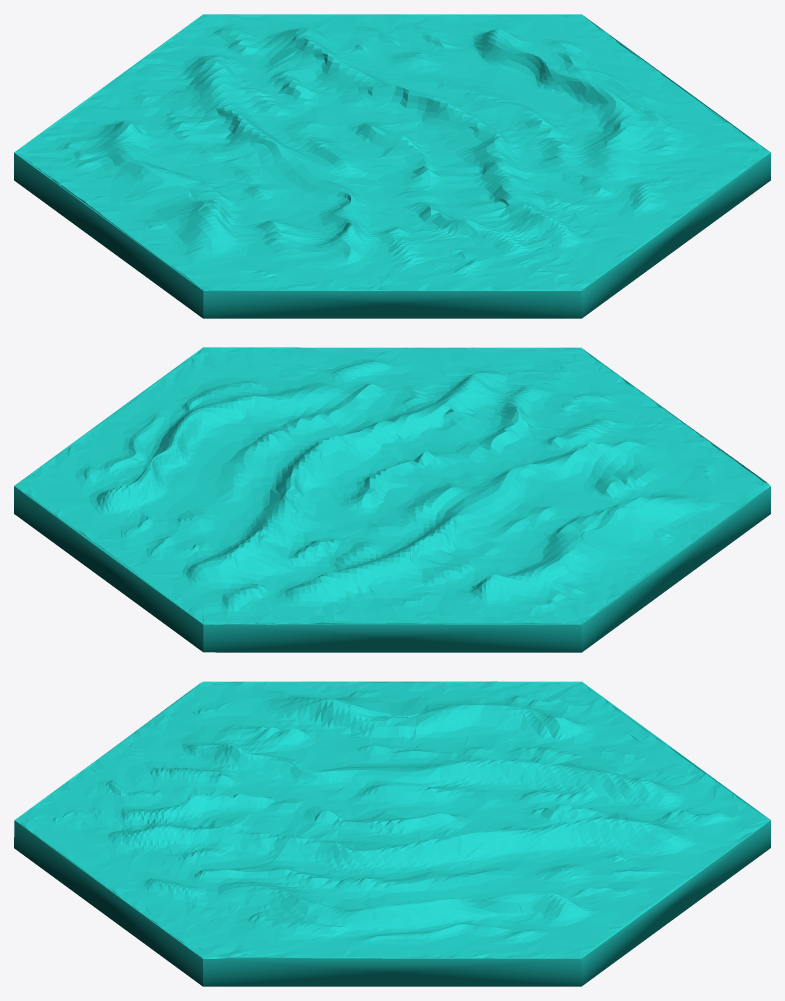
File: water.glb
3 renders of one model, top to bottom at view 1: azimuth 30°, elevation 25°; view 2: azimuth 150°, elevation 25°; view 3: azimuth 270°, elevation 25°, orthographic.
Parts seen in each view (by area): view 1: water; view 2: water; view 3: water.
Part boxes in pixels (x1,y1,x2,y2): water: (14, 14, 770, 318); water: (14, 347, 770, 652); water: (14, 681, 770, 986).
Bounding box in the file's own units: 64.08 × 4.94 × 73.93.
